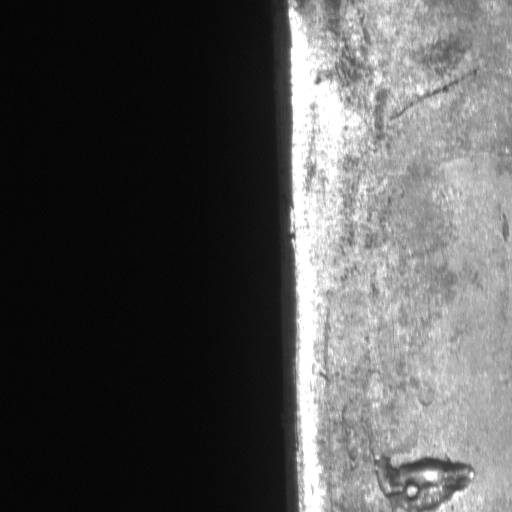aokeng: (370, 452, 478, 512)
